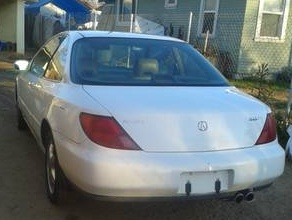acura: (4, 27, 288, 211)
